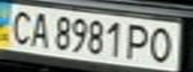1: (103, 19, 127, 57)
8: (84, 17, 106, 56), (51, 12, 72, 52)
9: (66, 15, 90, 54)
A: (24, 10, 54, 48)
C: (3, 7, 36, 46)
O: (145, 25, 181, 64)
P: (124, 21, 154, 61)
